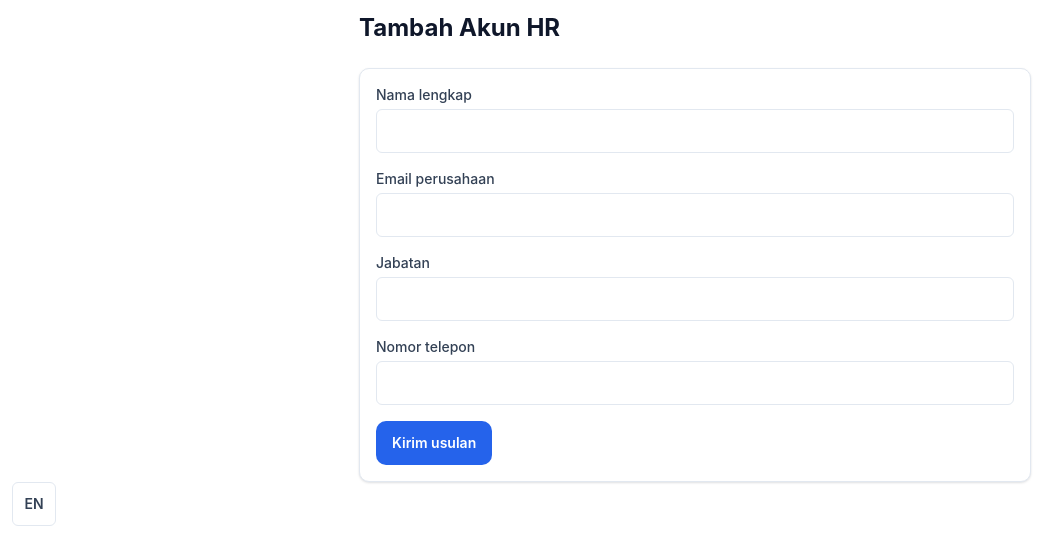
HrAddPage › switches the proposal screen to English
Expected: the heading "Tambah Akun HR" is shown, [359,13,560,42]
Click the button with test id "lang-toggle".
click(34, 504)  # box [12,482,56,526]
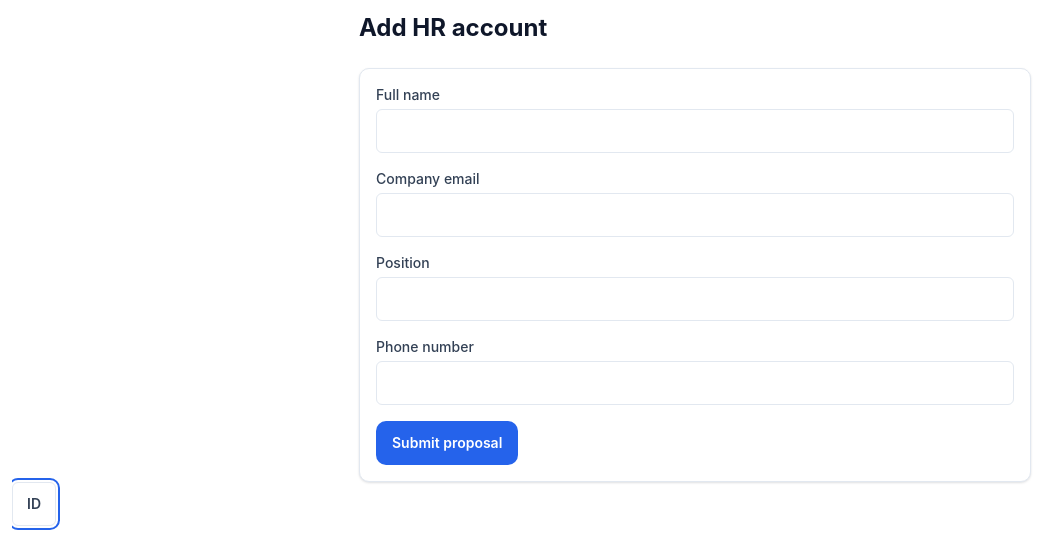
Now the heading "Add HR account" is shown, box [359,13,547,42]
Now the button "Submit proposal" is shown, box [376,421,518,465]
